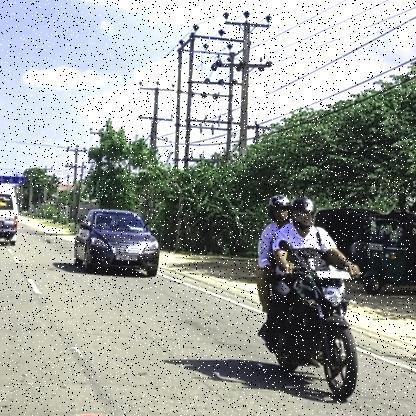motorcycle: (250, 264, 369, 401)
